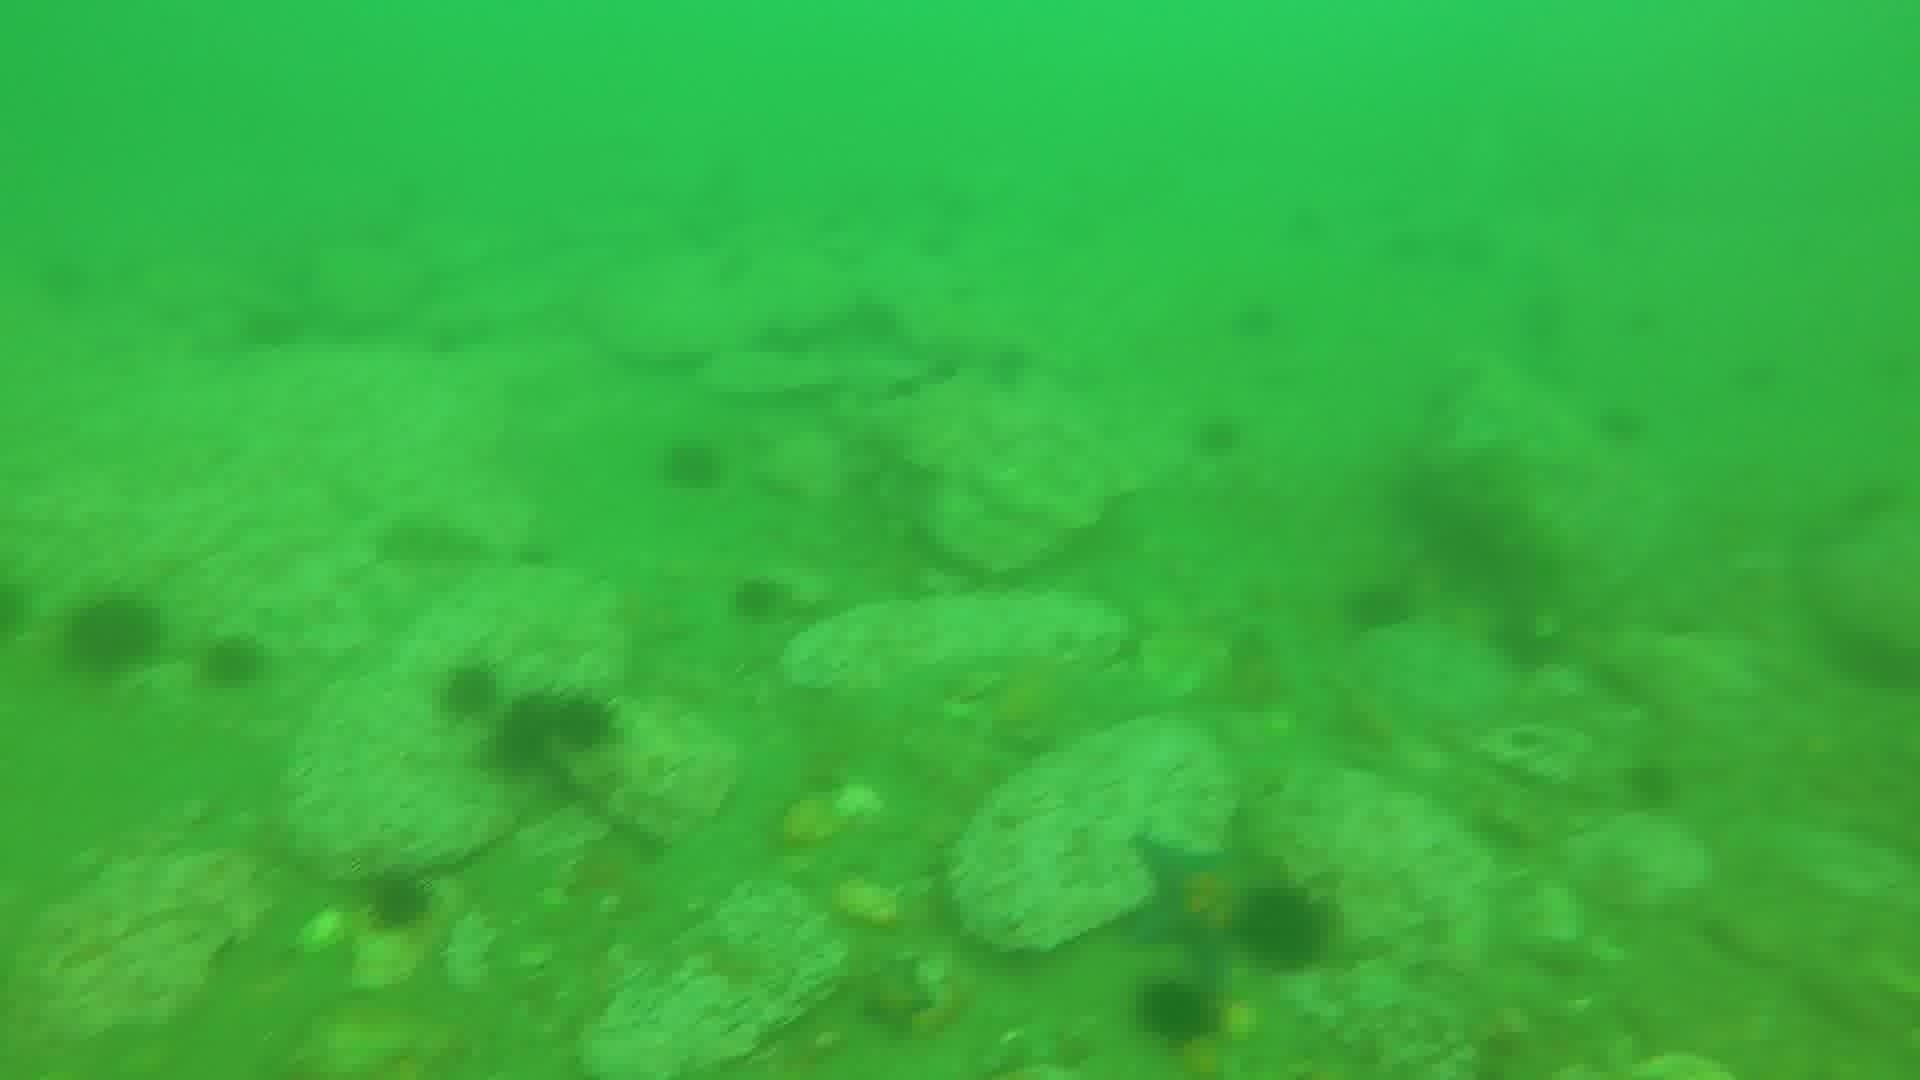echinus: (59, 589, 165, 680), (1234, 882, 1335, 975), (1131, 976, 1222, 1052), (483, 694, 560, 778), (541, 688, 621, 760), (360, 866, 436, 934), (1341, 576, 1419, 640), (433, 658, 505, 725), (196, 632, 270, 694), (655, 435, 729, 496), (236, 301, 306, 356), (1618, 756, 1683, 815), (725, 574, 793, 628), (1188, 411, 1247, 464), (1592, 400, 1651, 448)
starfish: (1127, 829, 1280, 961)
